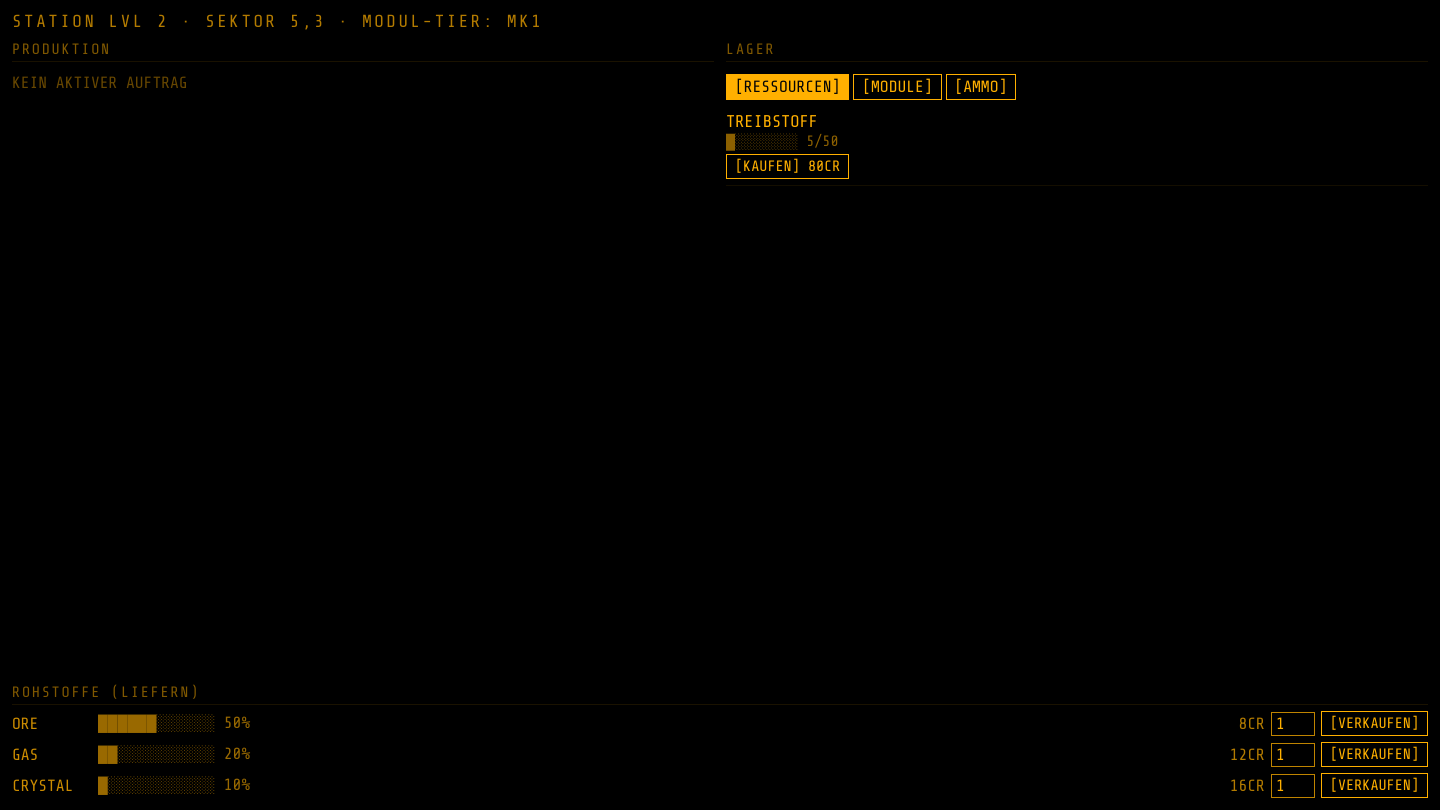
Test: FabrikScreen › when state is loaded › tab switching: AMMO tab hides RESSOURCEN items
Click the button "[AMMO]": (981, 87) [946, 74, 1016, 100]
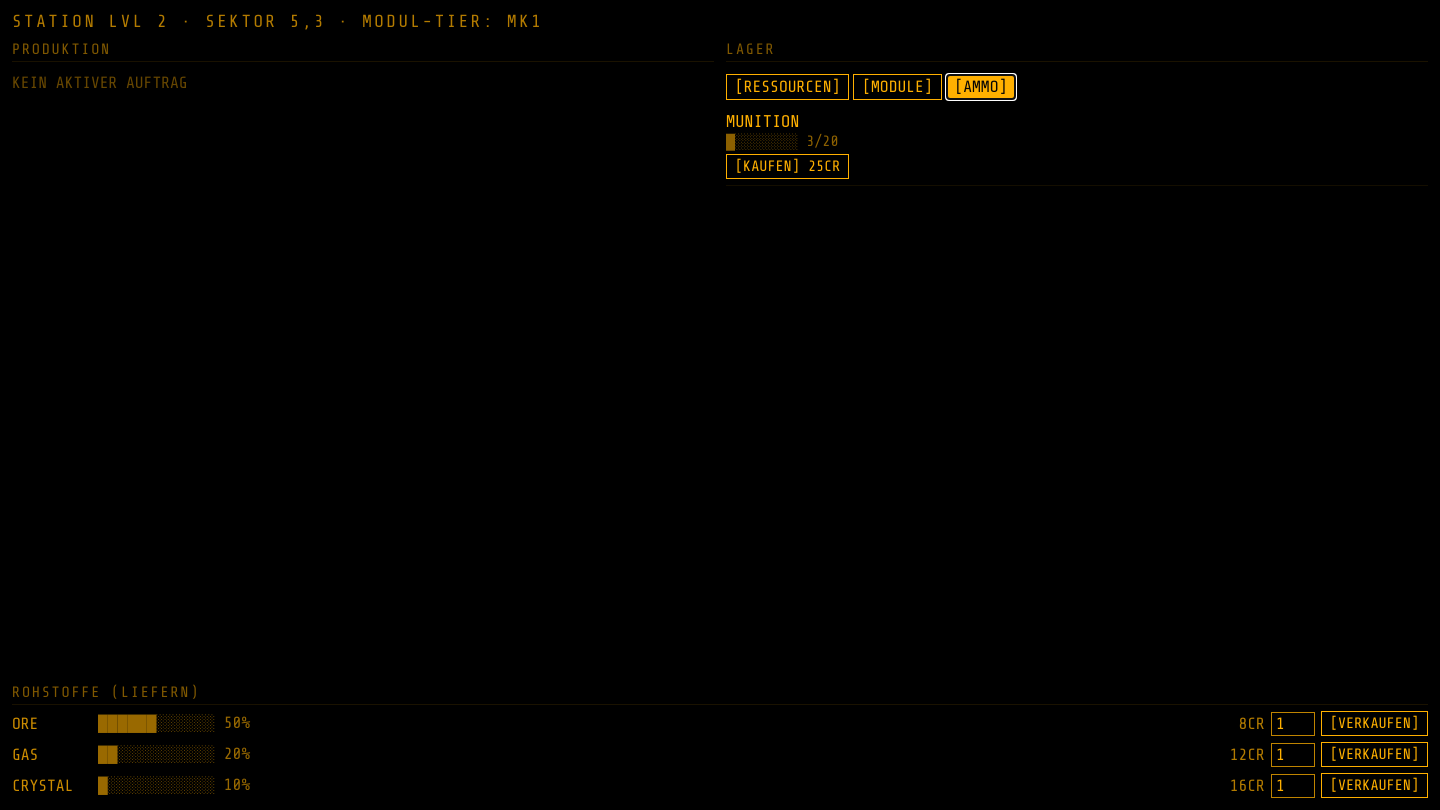
Expected: the text "TREIBSTOFF" is gone
Expected: the text "MUNITION" is shown, [726, 112, 800, 131]
